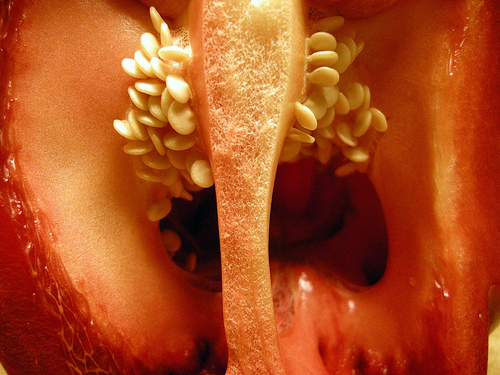capsicum: (1, 0, 498, 373)
